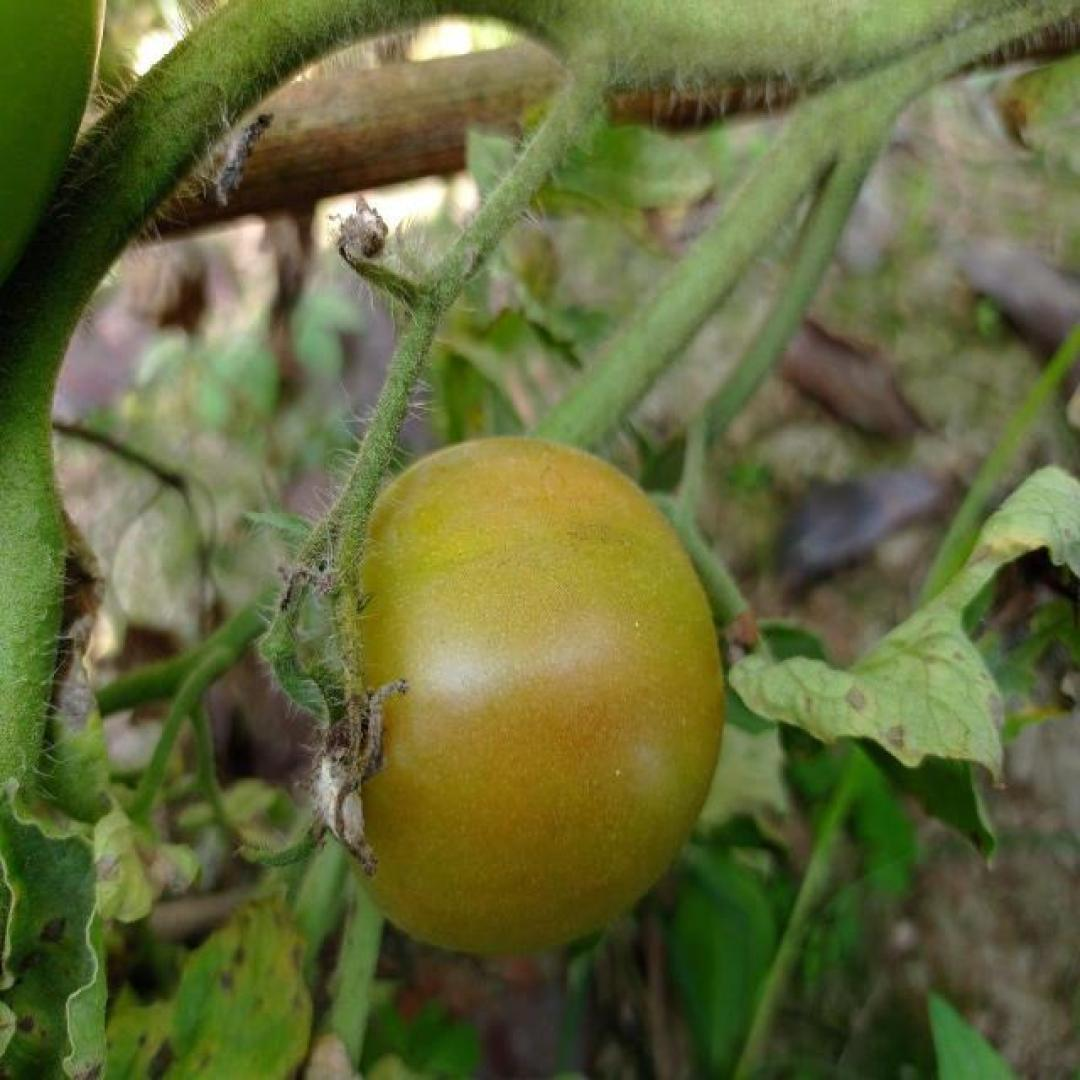setengah_matang: (324, 432, 727, 962)
